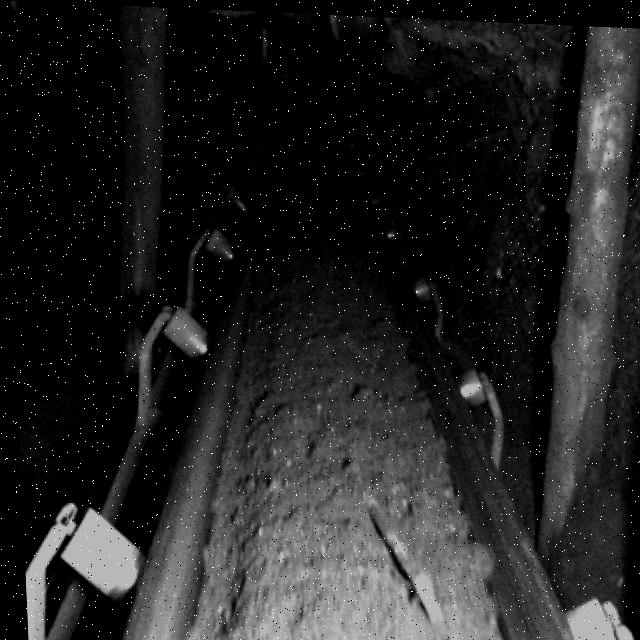bolt: (362, 497, 442, 625)
